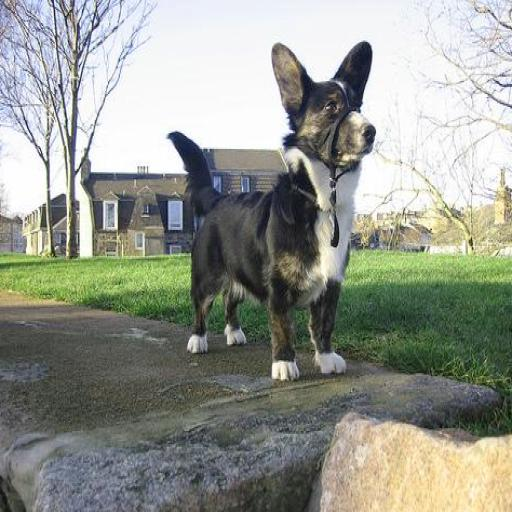dog_face: (262, 32, 377, 162)
